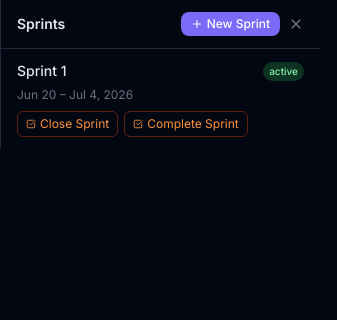
Test case: REQ-141 — sprint close vs complete › [REQ-141] Complete Sprint opens the disposition dialog in guided mode
Click the button "Complete Sprint" at (186, 124), box [124,111,248,137]
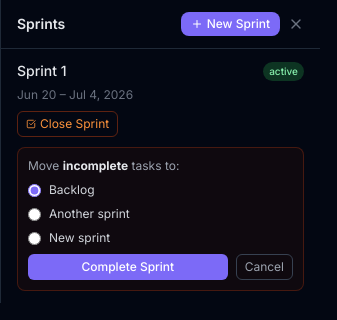
Now the text "Move incomplete tasks to:" is shown, box [28,158,179,173]
Now the text "Backlog" is shown, box [28,182,94,197]
Now the text "Another sprint" is shown, box [28,206,130,221]
